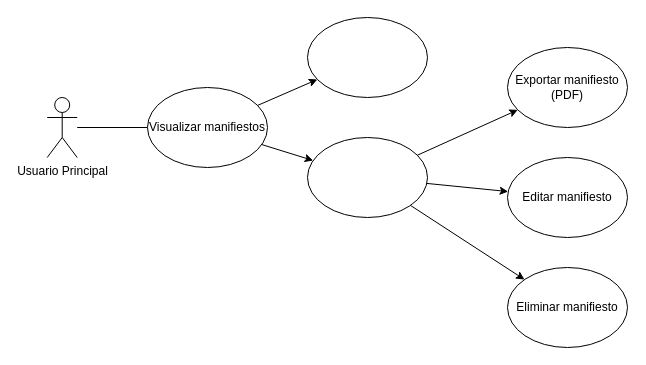
The diagram is 646 pixels wide and 365 high, and some of its shapes have lost their labels. Here are the shapes that lost their labels. From the top down, the box of each, then its label:
(306, 16, 428, 98): Filtrar manifiestos
(306, 136, 428, 218): Seleccionar manifiesto
